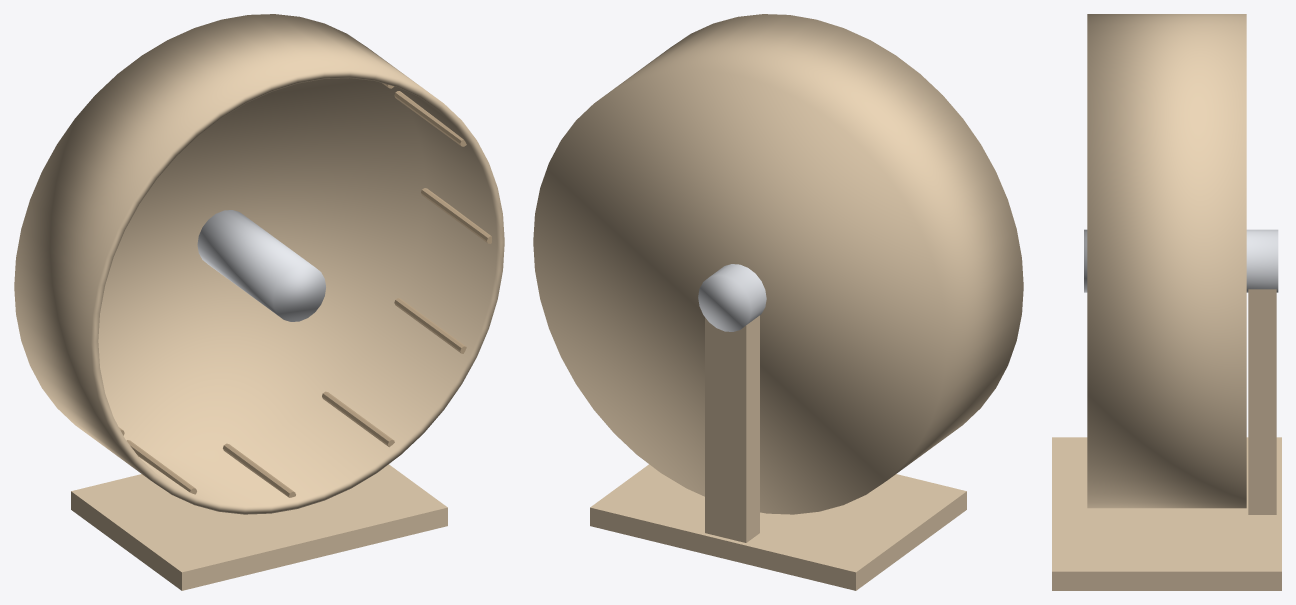
File: prop_wheel.glb
3 views of the same model, side by side, from view 1: azimuth 30°, elevation 25°; view 2: azimuth 150°, elevation 25°; view 3: azimuth 270°, elevation 25° (orthographic). The views are drawn at different scales.
Parts seen in each view (by area): view 1: prop_wheel_drum, prop_wheel_stand, prop_wheel_axle, prop_wheel_rung_10, prop_wheel_rung_11, prop_wheel_rung_00, prop_wheel_rung_09, prop_wheel_rung_01, prop_wheel_rung_08; view 2: prop_wheel_drum, prop_wheel_stand, prop_wheel_arm, prop_wheel_axle; view 3: prop_wheel_drum, prop_wheel_stand, prop_wheel_arm, prop_wheel_axle.
Part boxes in pixels (bbox=[...]): prop_wheel_drum: bbox=[14, 14, 504, 514]; prop_wheel_stand: bbox=[71, 464, 447, 590]; prop_wheel_axle: bbox=[197, 210, 325, 321]; prop_wheel_rung_10: bbox=[322, 391, 394, 447]; prop_wheel_rung_11: bbox=[394, 298, 466, 353]; prop_wheel_rung_00: bbox=[421, 188, 491, 243]; prop_wheel_rung_09: bbox=[223, 443, 295, 497]; prop_wheel_rung_01: bbox=[394, 91, 466, 146]; prop_wheel_rung_08: bbox=[126, 440, 196, 494]; prop_wheel_drum: bbox=[533, 14, 1023, 514]; prop_wheel_stand: bbox=[590, 464, 966, 590]; prop_wheel_arm: bbox=[705, 315, 759, 542]; prop_wheel_axle: bbox=[698, 264, 766, 331]; prop_wheel_drum: bbox=[1087, 14, 1246, 508]; prop_wheel_stand: bbox=[1052, 437, 1281, 590]; prop_wheel_arm: bbox=[1248, 289, 1276, 514]; prop_wheel_axle: bbox=[1084, 229, 1278, 292].
Size of the model in its own units: 0.28 by 0.304 by 0.13.
